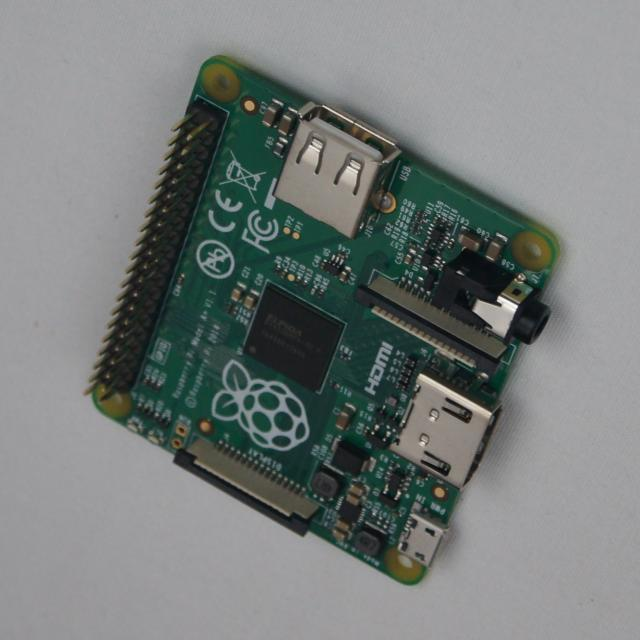Raspberry-Pi-1-A-: (88, 56, 558, 585)
